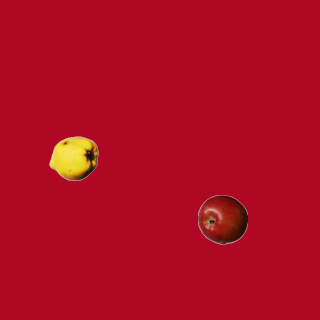Apple Braeburn: (197, 194, 247, 244)
Quince: (48, 133, 98, 183)
